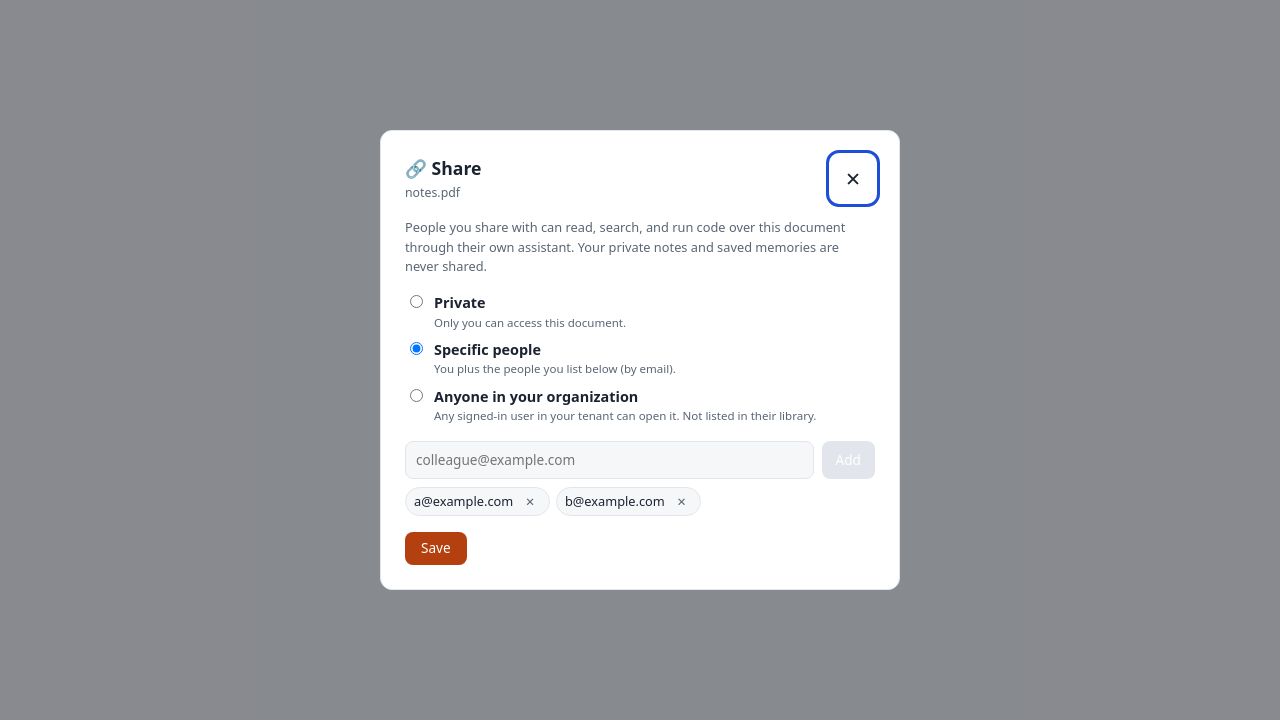
Test: SharePanel › warns that switching to public will clear the named list but NOT remove access — it widens to the whole org
Step 1. Click the radio button labelled "Anyone in your organization" → (416, 395), box [410,389,423,402]
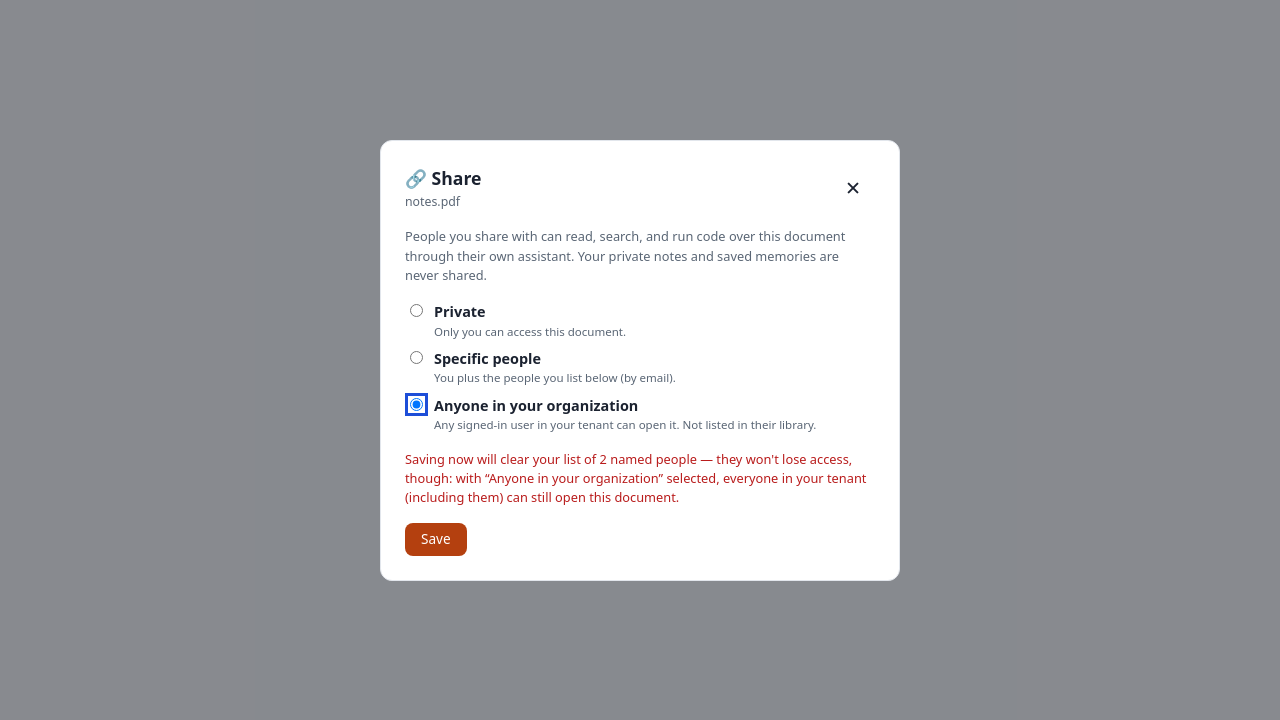
expect the message shows "won't lose access": met, box [405,450,866,506]
